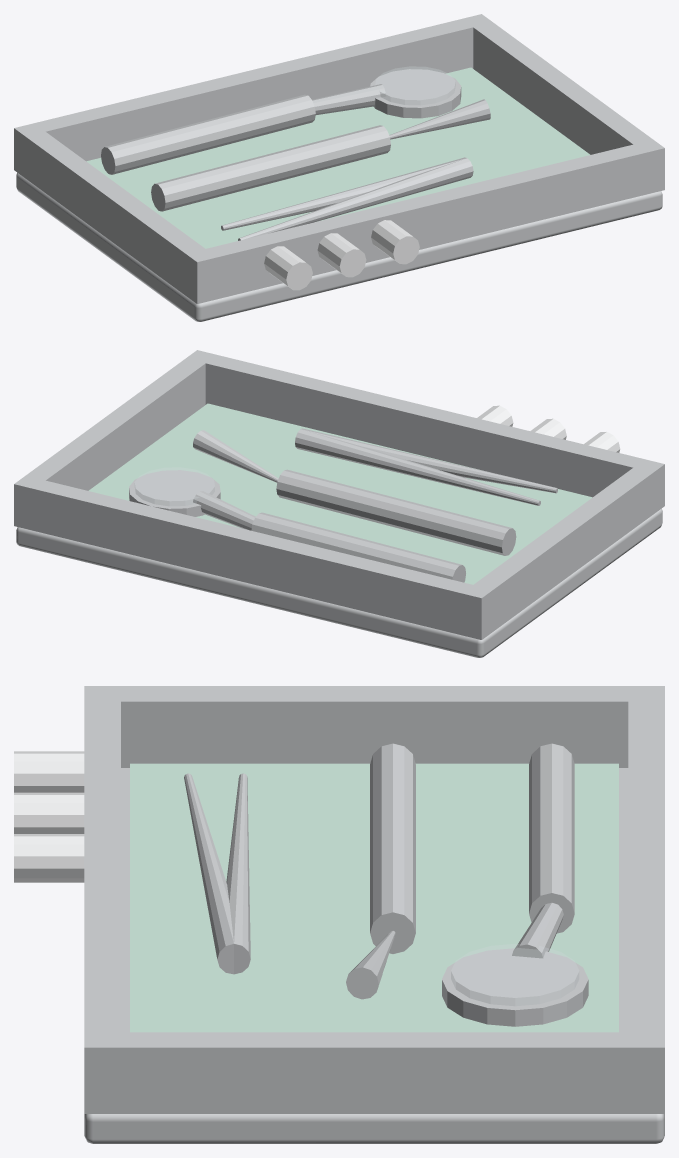
Rendered from instrument-tray.glb.
3 renders of one model, top to bottom at view 1: azimuth 30°, elevation 25°; view 2: azimuth 150°, elevation 25°; view 3: azimuth 270°, elevation 25°, orthographic. The views are drawn at different scales.
Parts seen in each view (by area): view 1: instrument-tray; view 2: instrument-tray; view 3: instrument-tray.
Part boxes in pixels (bbox=[...]): instrument-tray: bbox=[14, 14, 664, 321]; instrument-tray: bbox=[14, 350, 664, 657]; instrument-tray: bbox=[14, 686, 664, 1143].
Bounding box in the file's own units: 0.28 × 0.0394 × 0.213.
